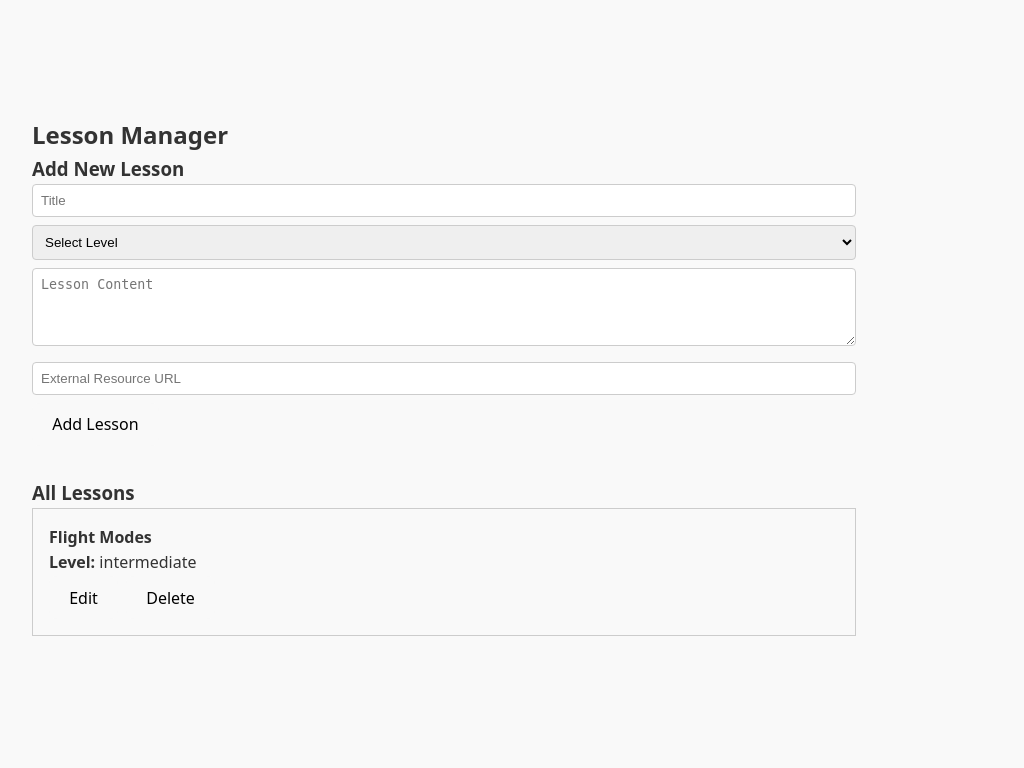
Test: edits a lesson
This screenshot has width=1024, height=768.
Expected: the heading "Flight Modes" is shown, [49,526,152,548]
Click the button "Edit" at (84,598), box [49,576,118,619]
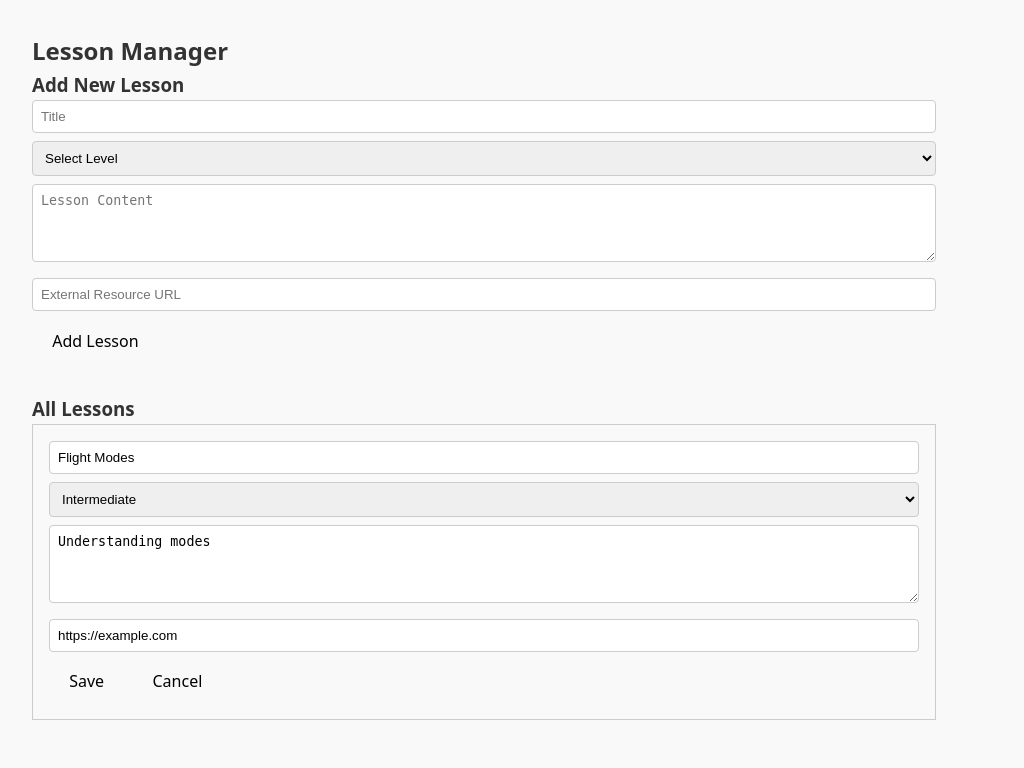
Replace the text in the 1st field showing "Flight Modes" with "Flight Techniques" at (484,458), box [49,441,920,474]
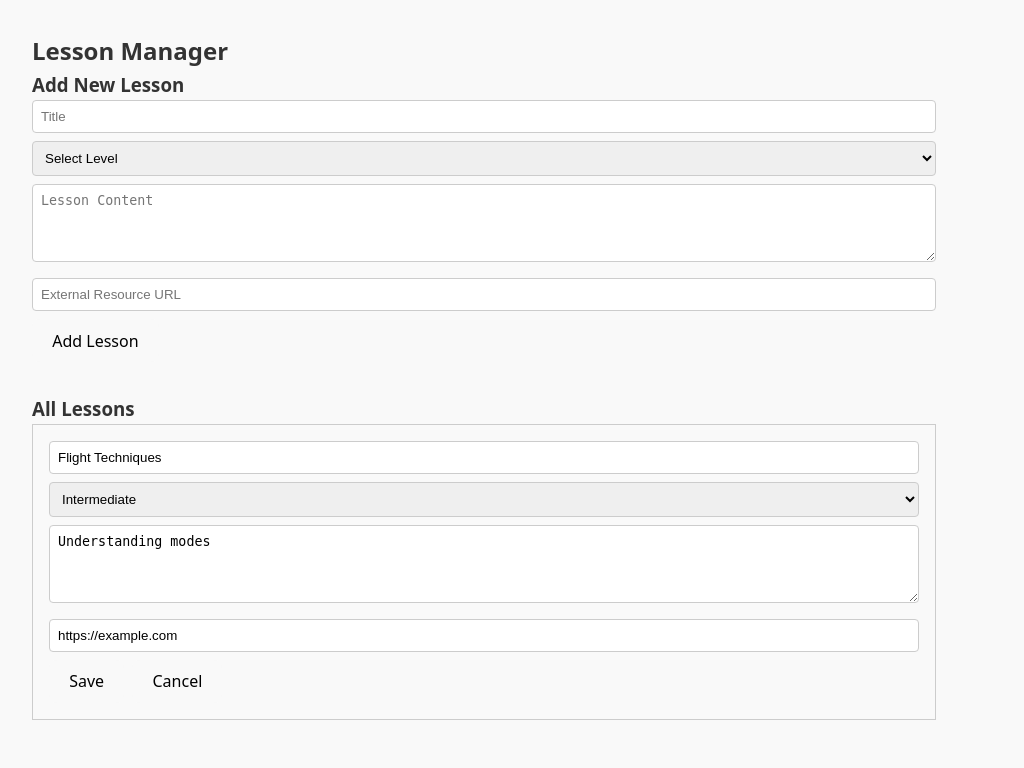
Click the button "Save" at (87,681), box [49,660,124,703]
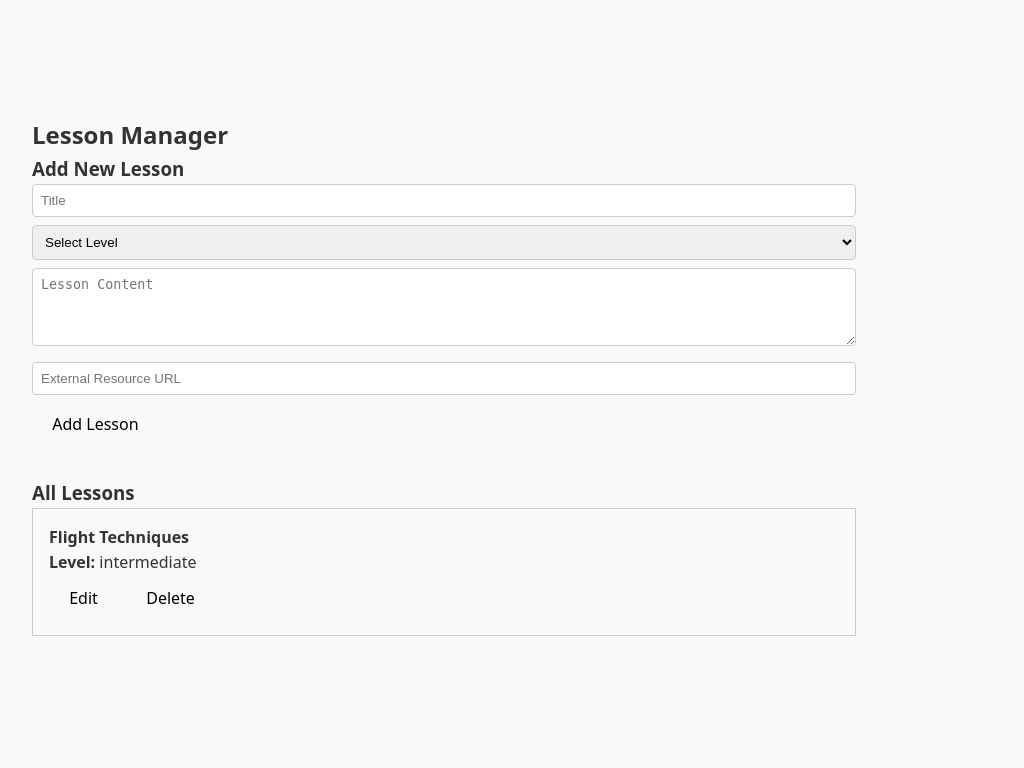
Result: the heading "Flight Techniques" is shown at [49,526,189,548]
